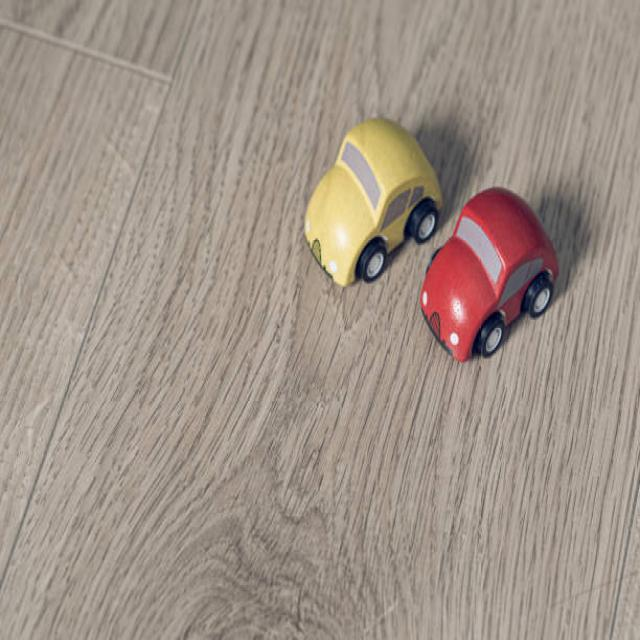Car: (304, 118, 441, 285)
